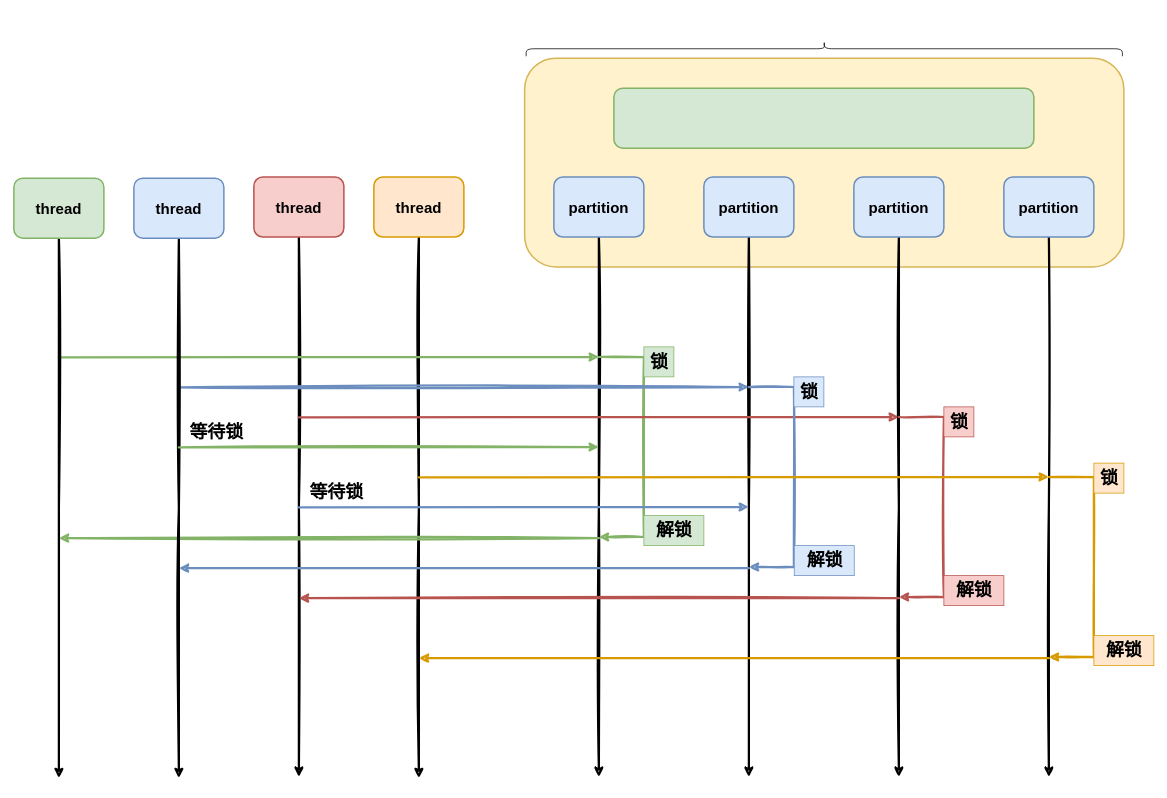
Some shapes in this 1167 by 798 pixel diagram are drawn without their labels. Each missing label, with the centre of its shape:
"hash" belongs at point 823,117.
"map" belongs at point 823,48.
